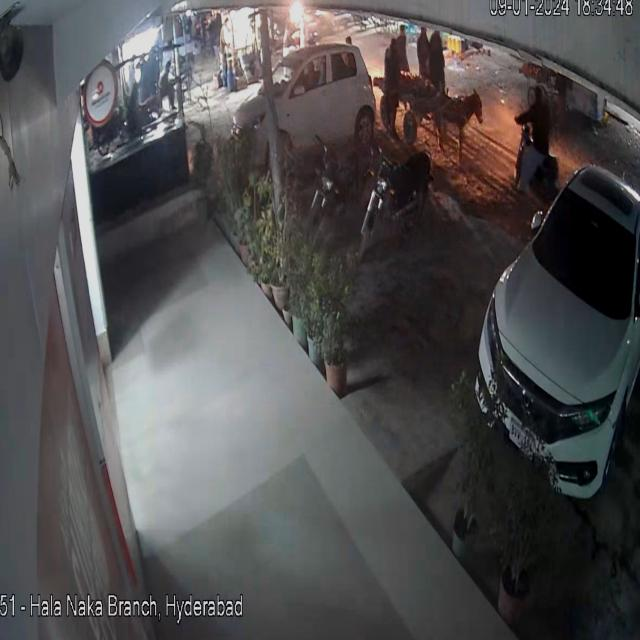Car: (475, 144, 640, 518), (231, 46, 395, 174)
Motorcycle: (362, 131, 438, 267), (310, 141, 370, 249)
